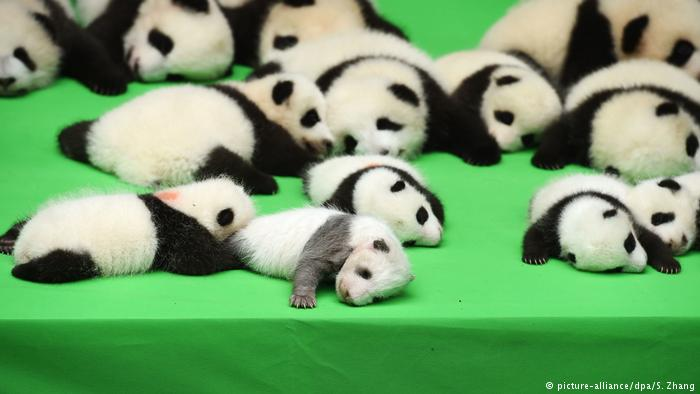panda: (19, 174, 265, 313), (93, 52, 330, 179), (246, 193, 418, 324), (515, 165, 677, 291)
